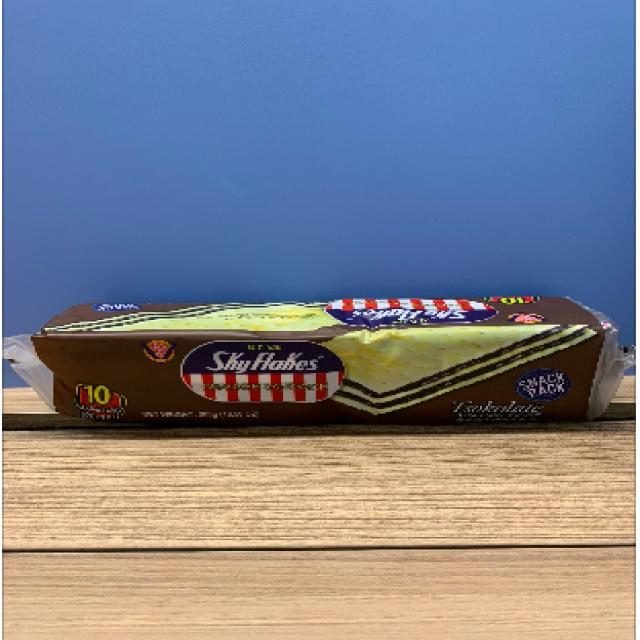object_name: (37, 303, 609, 428)
